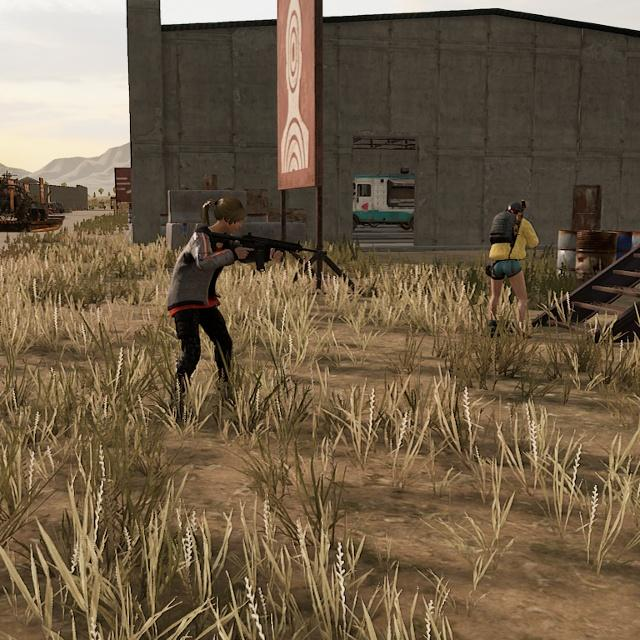head: (208, 192, 251, 237)
people: (161, 191, 255, 416), (482, 198, 539, 330), (504, 198, 529, 222)
